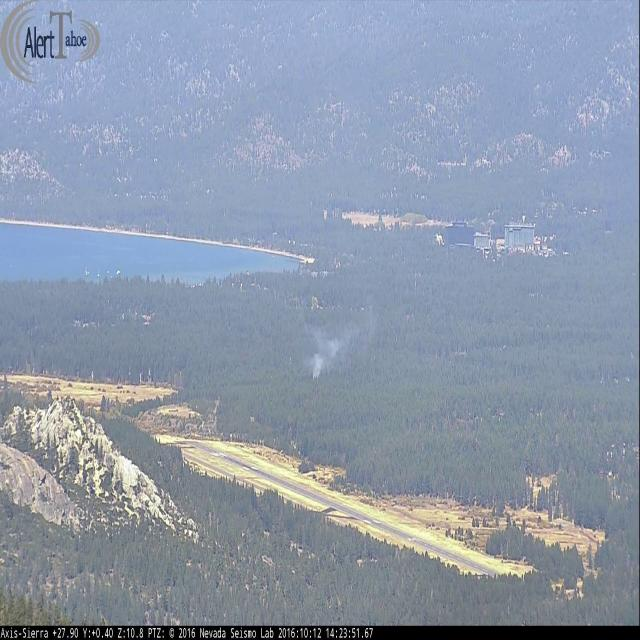smoke: (300, 290, 382, 383)
